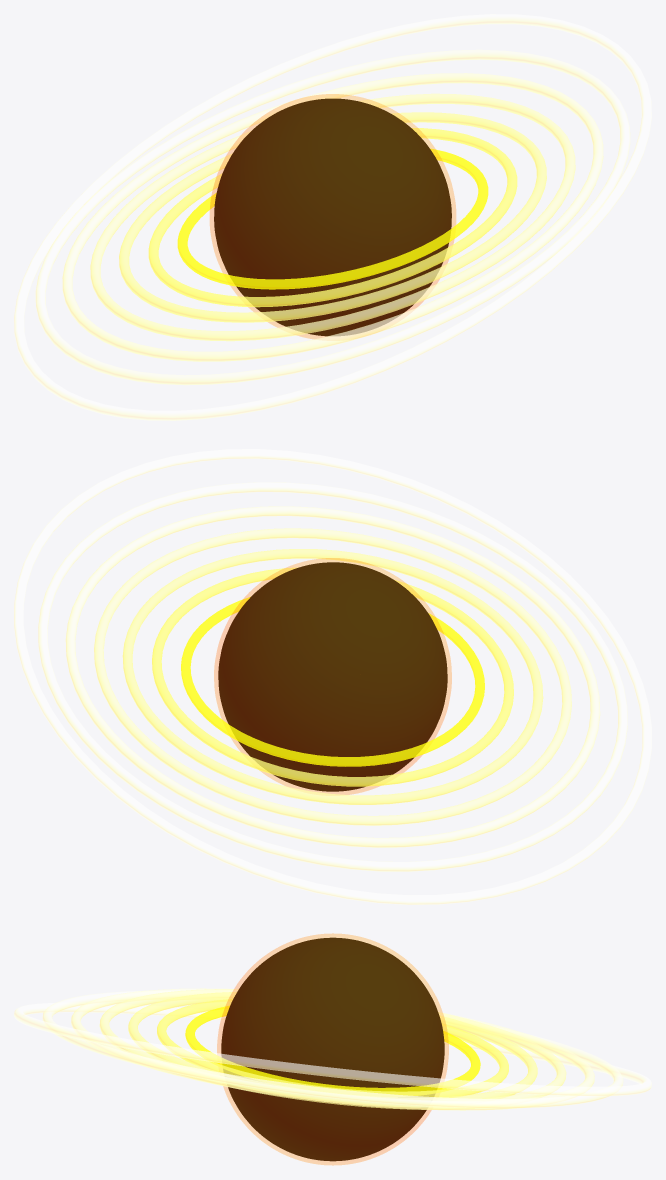
The model's file is uuon-planetwrithrings.glb.
The picture shows the model from 3 angles, top to bottom: view 1: azimuth 30°, elevation 25°; view 2: azimuth 150°, elevation 25°; view 3: azimuth 270°, elevation 25°; orthographic projection. The views are drawn at different scales.
Parts seen in each view (by area): view 1: 5a27d3c3-485c-4947-8562-068768fbb774, 301b9edf-df1c-4834-9bfa-56a55c7408bf, a5b432d4-6129-4b46-8251-8533ad2772a2, 7a9a63ce-7786-4718-aaf6-d3c34e5f6d7c, 2ff25802-777a-41a3-8d5b-84278d754a42, 938d6b32-cd3b-473d-902c-f2678f258b9d, 16619648-a5c3-45ae-a978-2af3da9ef930, 29830551-c1e7-4dc5-94e9-835ed5cc7bf0, dfdc8712-8d09-48c1-b10f-0b6afc1a1dd5; view 2: 301b9edf-df1c-4834-9bfa-56a55c7408bf, 5a27d3c3-485c-4947-8562-068768fbb774, a5b432d4-6129-4b46-8251-8533ad2772a2, 7a9a63ce-7786-4718-aaf6-d3c34e5f6d7c, 2ff25802-777a-41a3-8d5b-84278d754a42, 938d6b32-cd3b-473d-902c-f2678f258b9d, 16619648-a5c3-45ae-a978-2af3da9ef930, 29830551-c1e7-4dc5-94e9-835ed5cc7bf0, dfdc8712-8d09-48c1-b10f-0b6afc1a1dd5; view 3: 301b9edf-df1c-4834-9bfa-56a55c7408bf, 5a27d3c3-485c-4947-8562-068768fbb774, a5b432d4-6129-4b46-8251-8533ad2772a2, 7a9a63ce-7786-4718-aaf6-d3c34e5f6d7c, 2ff25802-777a-41a3-8d5b-84278d754a42, 938d6b32-cd3b-473d-902c-f2678f258b9d, 29830551-c1e7-4dc5-94e9-835ed5cc7bf0, 16619648-a5c3-45ae-a978-2af3da9ef930, dfdc8712-8d09-48c1-b10f-0b6afc1a1dd5.
Part boxes in pixels (box(x1,y1,x2,y2)): 5a27d3c3-485c-4947-8562-068768fbb774: box(214, 98, 451, 336); 301b9edf-df1c-4834-9bfa-56a55c7408bf: box(210, 94, 455, 338); a5b432d4-6129-4b46-8251-8533ad2772a2: box(14, 14, 651, 420); 7a9a63ce-7786-4718-aaf6-d3c34e5f6d7c: box(35, 49, 630, 385); 2ff25802-777a-41a3-8d5b-84278d754a42: box(62, 73, 603, 361); 938d6b32-cd3b-473d-902c-f2678f258b9d: box(90, 93, 575, 341); 16619648-a5c3-45ae-a978-2af3da9ef930: box(119, 112, 546, 322); 29830551-c1e7-4dc5-94e9-835ed5cc7bf0: box(148, 128, 517, 307); dfdc8712-8d09-48c1-b10f-0b6afc1a1dd5: box(177, 148, 488, 289); 301b9edf-df1c-4834-9bfa-56a55c7408bf: box(214, 558, 451, 794); 5a27d3c3-485c-4947-8562-068768fbb774: box(218, 562, 447, 791); a5b432d4-6129-4b46-8251-8533ad2772a2: box(14, 449, 651, 904); 7a9a63ce-7786-4718-aaf6-d3c34e5f6d7c: box(38, 482, 627, 871); 2ff25802-777a-41a3-8d5b-84278d754a42: box(65, 506, 600, 847); 938d6b32-cd3b-473d-902c-f2678f258b9d: box(94, 528, 571, 825); 16619648-a5c3-45ae-a978-2af3da9ef930: box(122, 549, 543, 804); 29830551-c1e7-4dc5-94e9-835ed5cc7bf0: box(152, 567, 513, 786); dfdc8712-8d09-48c1-b10f-0b6afc1a1dd5: box(181, 597, 484, 766); 301b9edf-df1c-4834-9bfa-56a55c7408bf: box(217, 933, 448, 1165); 5a27d3c3-485c-4947-8562-068768fbb774: box(221, 937, 444, 1161); a5b432d4-6129-4b46-8251-8533ad2772a2: box(14, 1003, 651, 1096); 7a9a63ce-7786-4718-aaf6-d3c34e5f6d7c: box(42, 990, 623, 1108); 2ff25802-777a-41a3-8d5b-84278d754a42: box(71, 988, 594, 1110); 938d6b32-cd3b-473d-902c-f2678f258b9d: box(99, 989, 566, 1109); 29830551-c1e7-4dc5-94e9-835ed5cc7bf0: box(157, 999, 508, 1097); 16619648-a5c3-45ae-a978-2af3da9ef930: box(128, 992, 537, 1100); dfdc8712-8d09-48c1-b10f-0b6afc1a1dd5: box(185, 1005, 480, 1095).
Size of the model in its own units: 18.82 by 7.63 by 19.96.
